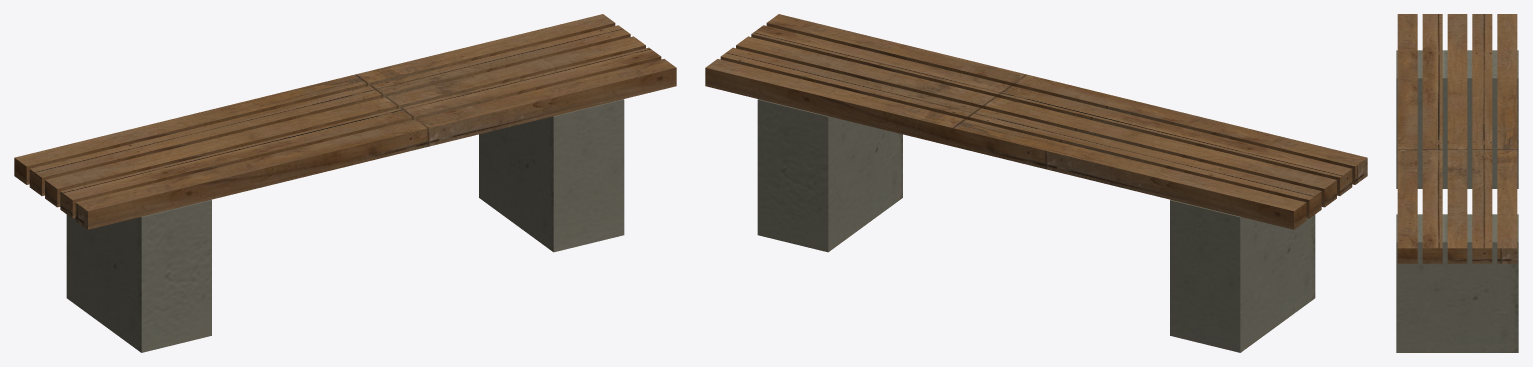
Rendered from bench_modern.glb.
3 renders of one model, left to right at view 1: azimuth 30°, elevation 25°; view 2: azimuth 150°, elevation 25°; view 3: azimuth 270°, elevation 25°, orthographic. The views are drawn at different scales.
Visible parts, largest first — view 1: bench_modern_body; view 2: bench_modern_body; view 3: bench_modern_body.
Boxes of the visible parts, box(x1,y1,x2,y2) form: bench_modern_body: box(14, 14, 676, 352); bench_modern_body: box(705, 14, 1367, 352); bench_modern_body: box(1396, 14, 1518, 352).
Bounding box in the file's own units: 0.1 × 0.025 × 0.022.
Materials: 2 (2 with a texture image).
